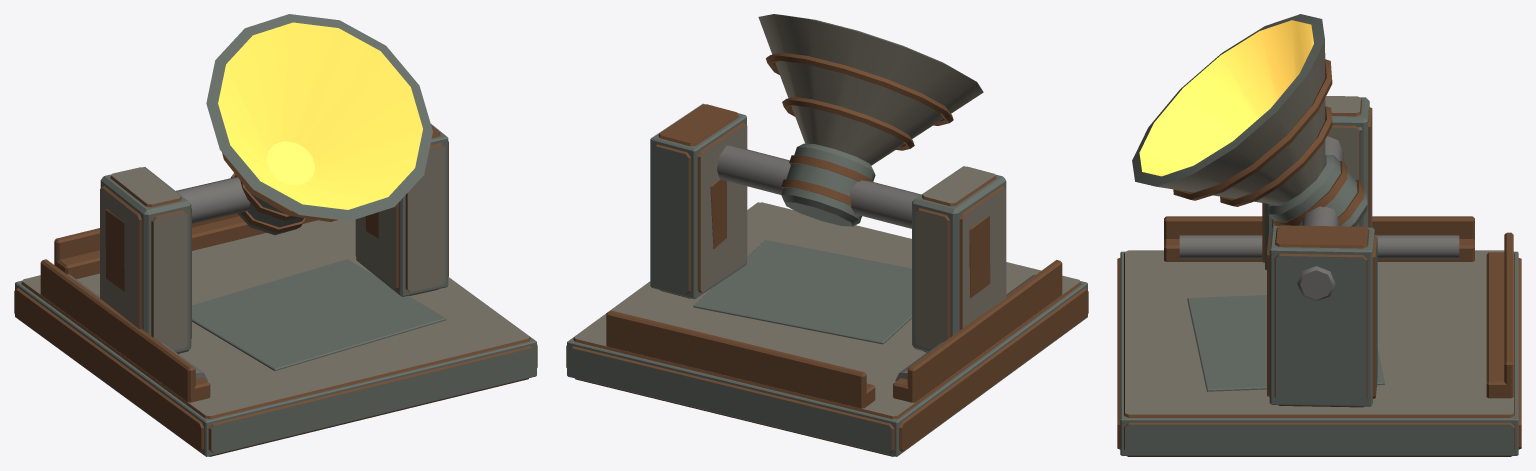
File: R4X_DeployableAmplifier.fbx
3 views of the same model, side by side, from view 1: azimuth 30°, elevation 25°; view 2: azimuth 150°, elevation 25°; view 3: azimuth 270°, elevation 25° (orthographic). The views are drawn at different scales.
Parts seen in each view (by area): view 1: R4X_DeployableAmplifier_Body, R4X_DeployableAmplifier_Horn; view 2: R4X_DeployableAmplifier_Body, R4X_DeployableAmplifier_Horn; view 3: R4X_DeployableAmplifier_Body, R4X_DeployableAmplifier_Horn.
Boxes of the visible parts, box(x1,y1,x2,y2) form: R4X_DeployableAmplifier_Body: box(14, 124, 537, 456); R4X_DeployableAmplifier_Horn: box(206, 14, 432, 235); R4X_DeployableAmplifier_Body: box(566, 103, 1088, 456); R4X_DeployableAmplifier_Horn: box(758, 14, 983, 226); R4X_DeployableAmplifier_Body: box(1117, 96, 1521, 456); R4X_DeployableAmplifier_Horn: box(1132, 14, 1367, 226).
Size of the model in its own units: 0.52 by 0.4868 by 0.52.
